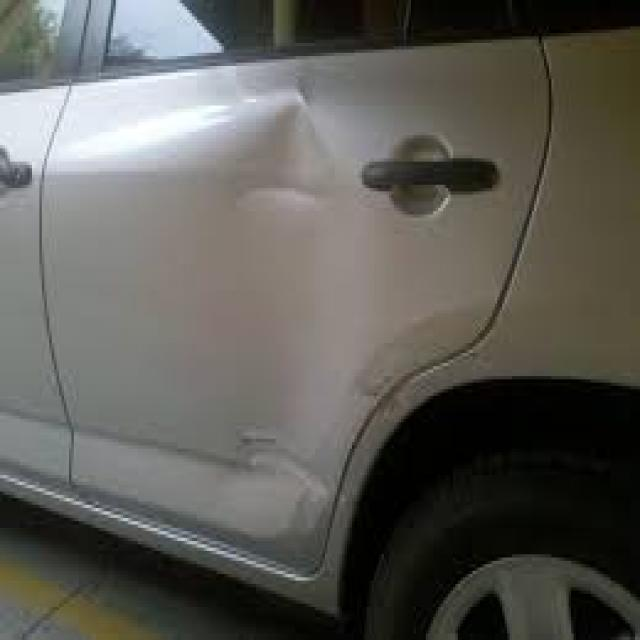minor: (211, 345, 406, 555), (224, 76, 328, 224)
